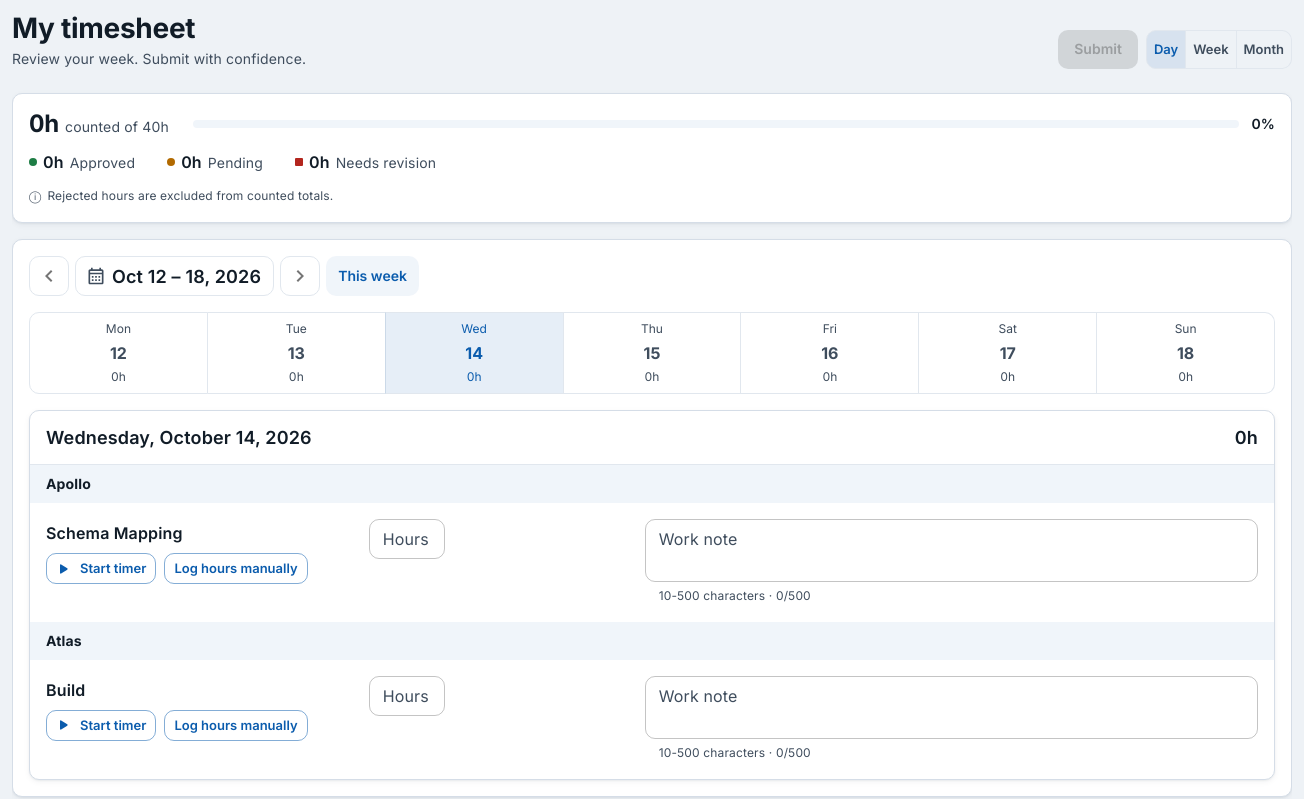
Timesheet day view › a note shorter than 10 characters is flagged
In the text box named "Work note, Build": (951, 708) x1=659 y1=684 x2=1244 y2=730, type "too short"
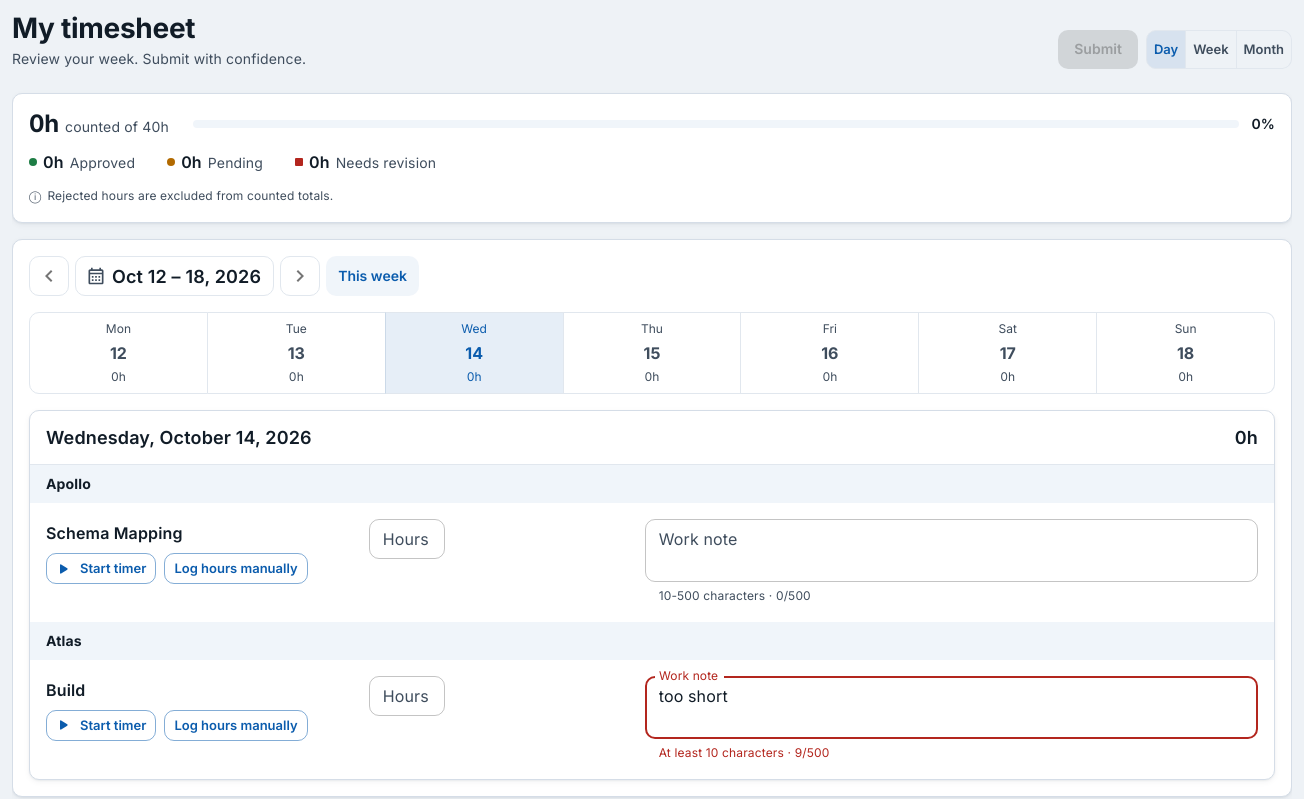
Now the text "At least 10 characters · 9/500" is shown, box x1=659 y1=745 x2=830 y2=760
